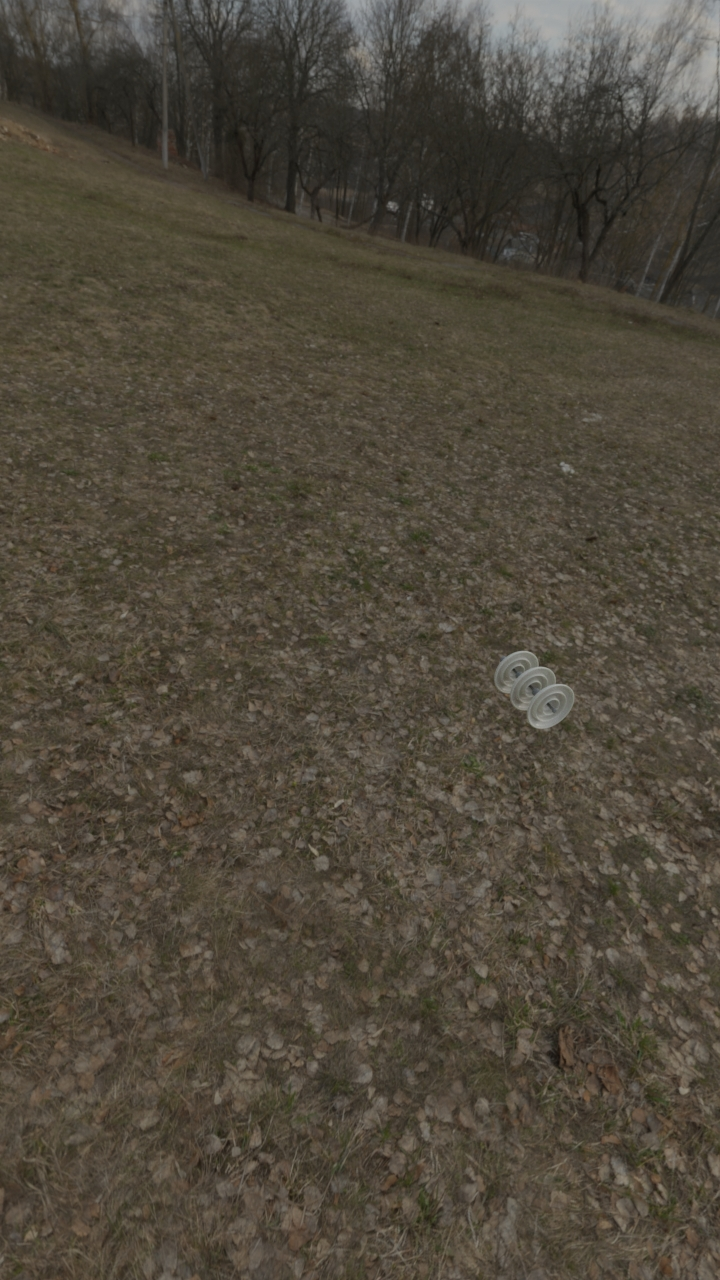ceramicinsulators: (494, 651, 574, 729)
